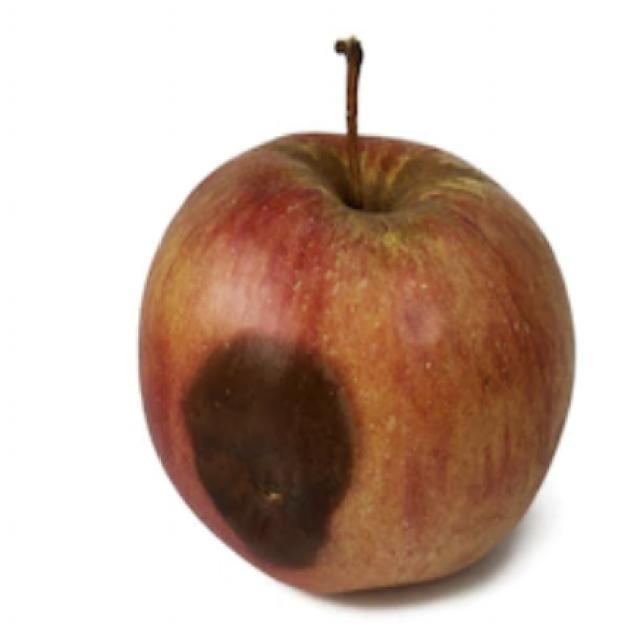Rotten: (145, 140, 553, 575)
